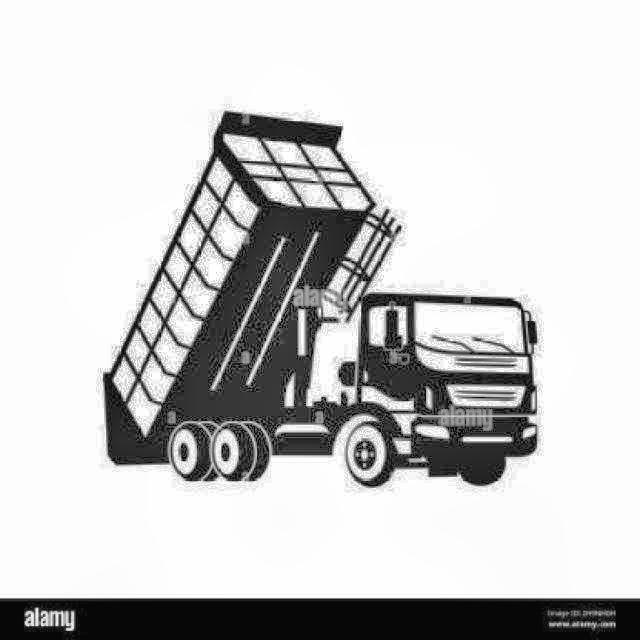dump_truck: (92, 102, 550, 502)
